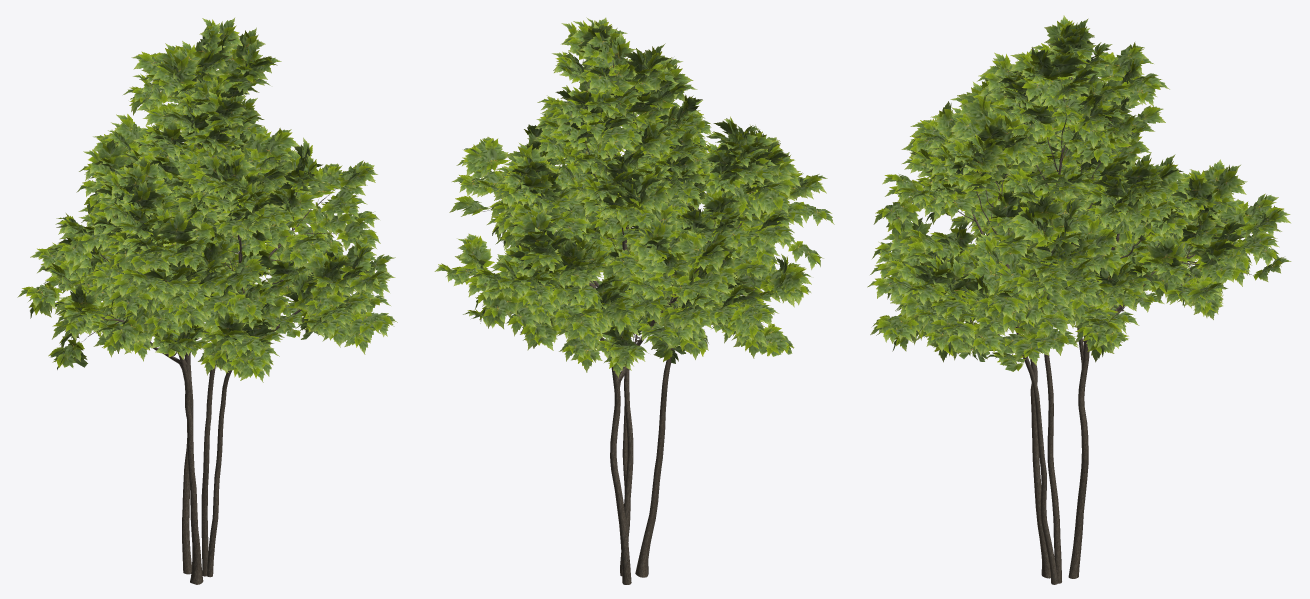
The model's file is tree_maple_lod0.glb.
3 renders of one model, left to right at view 1: azimuth 30°, elevation 25°; view 2: azimuth 150°, elevation 25°; view 3: azimuth 270°, elevation 25°, orthographic. The views are drawn at different scales.
Visible parts, largest first — view 1: Maple_tree1_LOD0; view 2: Maple_tree1_LOD0; view 3: Maple_tree1_LOD0.
Boxes of the visible parts, box(x1,y1,x2,y2) form: Maple_tree1_LOD0: box(17, 18, 397, 584); Maple_tree1_LOD0: box(434, 17, 834, 584); Maple_tree1_LOD0: box(867, 15, 1291, 584).
Bounding box in the file's own units: 2.44 × 3.73 × 2.55.
2 materials, 2 textured.
